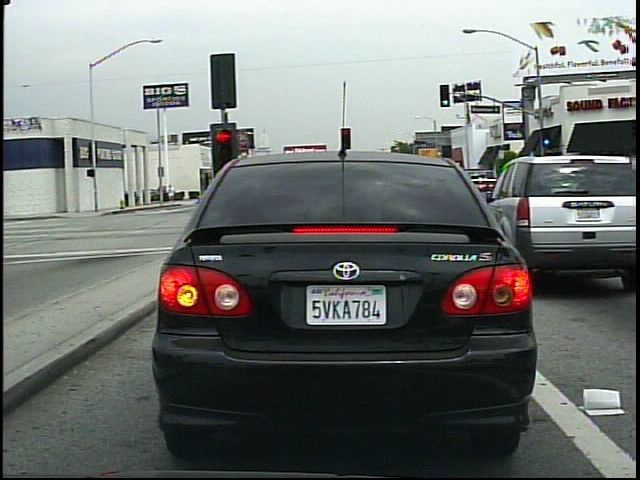person: (516, 166, 532, 198), (166, 180, 178, 208)
